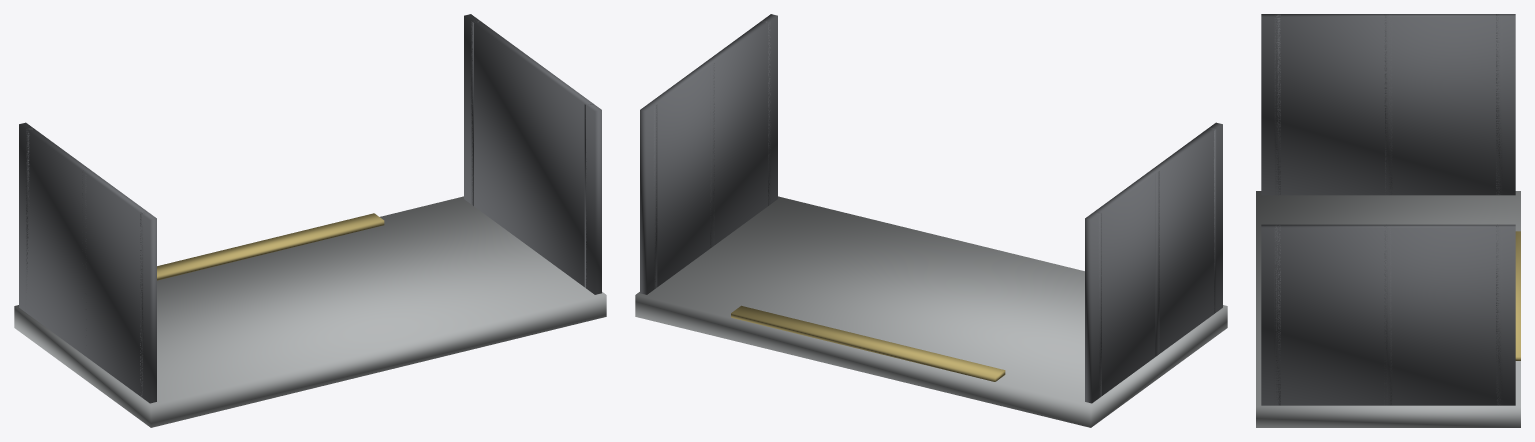
Rendered from floor_w260_d135_sides.glb.
The picture shows the model from 3 angles, left to right: view 1: azimuth 30°, elevation 25°; view 2: azimuth 150°, elevation 25°; view 3: azimuth 270°, elevation 25°; orthographic projection. The views are drawn at different scales.
Visible parts, largest first — view 1: world; view 2: world; view 3: world.
Part boxes in pixels (x1,y1,x2,y2): world: [14, 14, 606, 427]; world: [635, 14, 1227, 427]; world: [1256, 14, 1520, 427].
Size of the model in its own units: 2.6 by 1.12 by 1.35.
